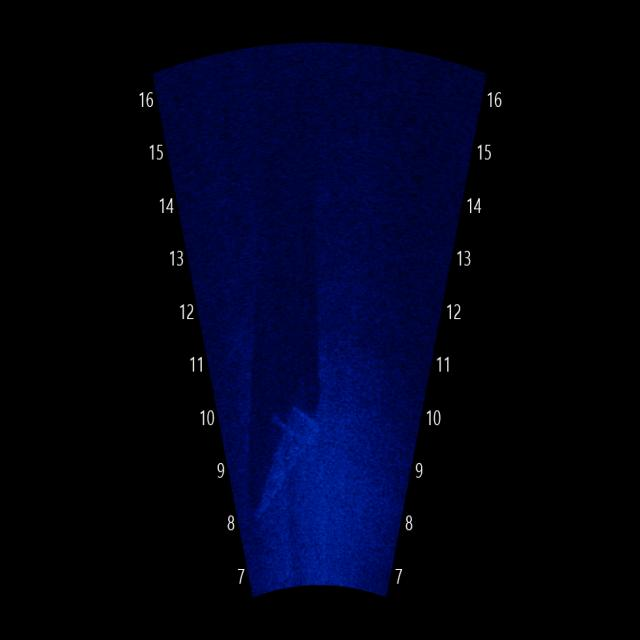triangle: (254, 386, 318, 530)
